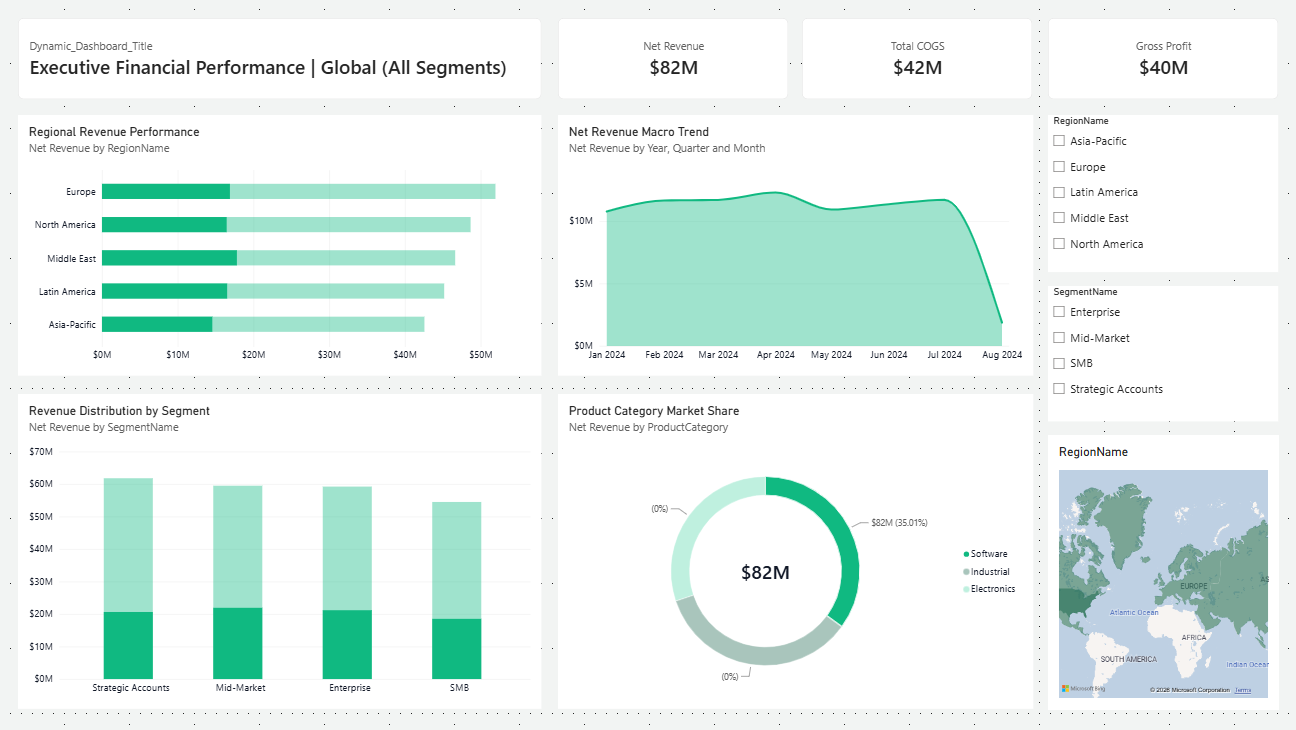

Layout of this report page (visuals, bound fields, positions):
{"tool":"powerbi","page":{"name":"EFP","canvas":[1920,1080],"ordinal":0},"visuals":[{"type":"cardVisual","fields":{"Data":["measures_table.Dynamic_Dashboard_Title"]},"box":[28.3,30,773.3,120],"z":0},{"type":"cardVisual","fields":{"Data":["measures_table.Net Revenue"]},"box":[825,30,340,120],"z":1},{"type":"cardVisual","fields":{"Data":["measures_table.Gross Profit"]},"box":[1550,30,340,120],"z":2},{"type":"cardVisual","fields":{"Data":["measures_table.Total COGS"]},"box":[1186.7,30,340,120],"z":3},{"type":"areaChart","title":"Net Revenue Macro Trend","fields":{"Category":["Fact_Transactions.Date.Variation.Date Hierarchy.Year","Fact_Transactions.Date.Variation.Date Hierarchy.Quarter","Fact_Transactions.Date.Variation.Date Hierarchy.Month"],"Y":["measures_table.Net Revenue"]},"box":[825,173.3,701.7,385],"z":4},{"type":"donutChart","title":"Product Category Market Share","fields":{"Category":["Dim_Products.ProductCategory"],"Y":["measures_table.Net Revenue"]},"box":[825,585,701.7,465],"z":5},{"type":"clusteredBarChart","title":"Regional Revenue Performance","fields":{"Category":["Dim_Regions.RegionName"],"Y":["measures_table.Net Revenue"]},"box":[28.3,173.3,773.3,385],"z":6},{"type":"clusteredColumnChart","title":"Revenue Distribution by Segment","fields":{"Category":["Dim_Segments.SegmentName"],"Y":["measures_table.Net Revenue"]},"box":[28.3,585,773.3,465],"z":7},{"type":"slicer","fields":{"Values":["Dim_Regions.RegionName"]},"box":[1550,173.3,340,231.7],"z":8},{"type":"slicer","fields":{"Values":["Dim_Segments.SegmentName"]},"box":[1550,425,340,200],"z":9},{"type":"filledMap","fields":{"Category":["Dim_Regions.RegionName"]},"box":[1549.3,645.4,341.2,404.7],"z":10}]}

Visuals, with their boxes in screenshot pixels (x1, y1, x2, y2), scaled from the page's 1920x1080 canvas onto the 1296x730 screenshot:
cardVisual - measures_table.Dynamic_Dashboard_Title: left=19, top=20, right=541, bottom=101
cardVisual - measures_table.Net Revenue: left=557, top=20, right=786, bottom=101
cardVisual - measures_table.Gross Profit: left=1046, top=20, right=1276, bottom=101
cardVisual - measures_table.Total COGS: left=801, top=20, right=1031, bottom=101
"Net Revenue Macro Trend" areaChart: left=557, top=117, right=1031, bottom=377
"Product Category Market Share" donutChart: left=557, top=395, right=1031, bottom=710
"Regional Revenue Performance" clusteredBarChart: left=19, top=117, right=541, bottom=377
"Revenue Distribution by Segment" clusteredColumnChart: left=19, top=395, right=541, bottom=710
slicer - Dim_Regions.RegionName: left=1046, top=117, right=1276, bottom=274
slicer - Dim_Segments.SegmentName: left=1046, top=287, right=1276, bottom=422
filledMap - Dim_Regions.RegionName: left=1046, top=436, right=1276, bottom=710
